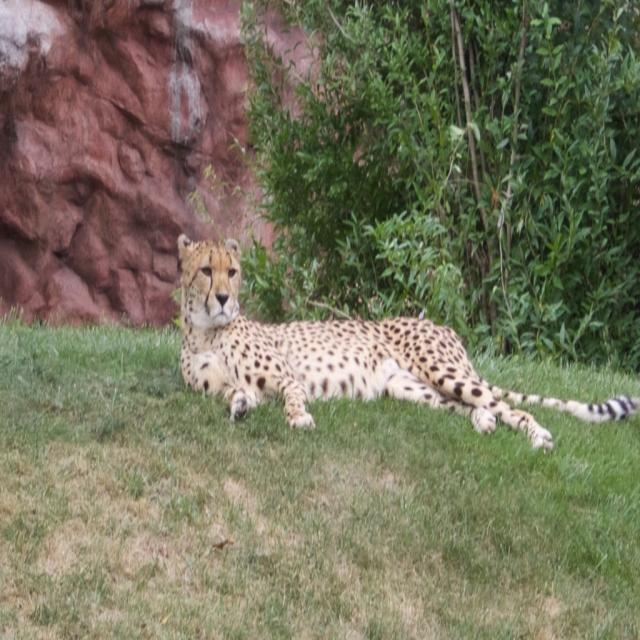Cheetah: (176, 231, 640, 454)
